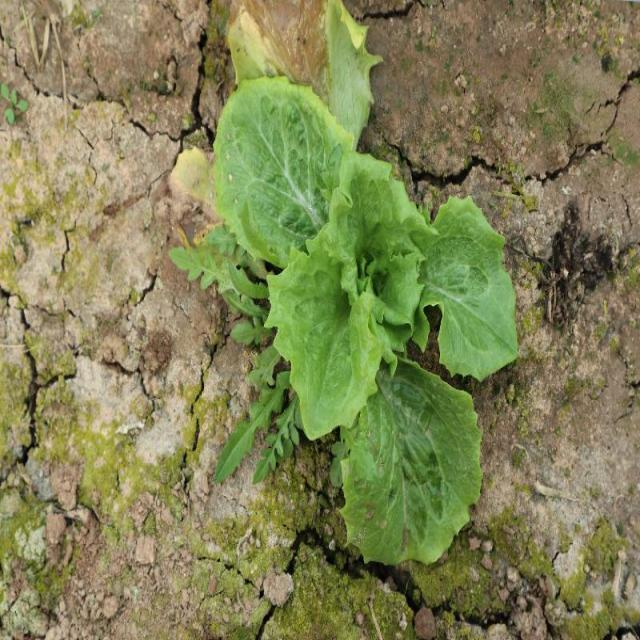crop: (166, 74, 521, 567)
